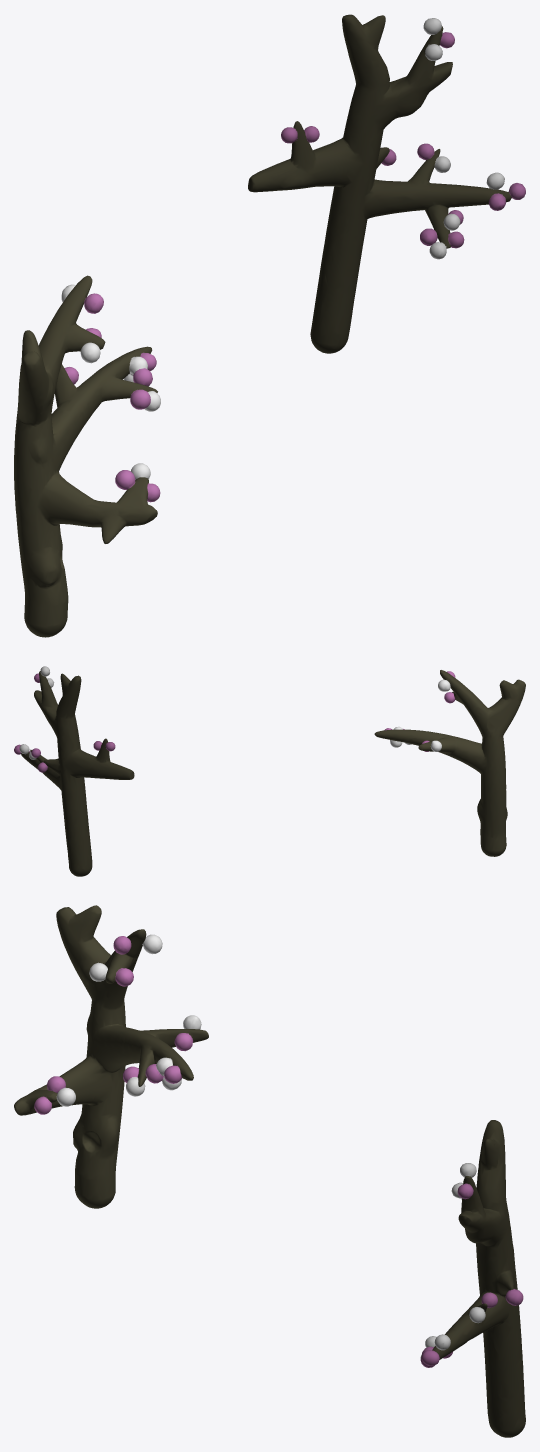
Rendered from dltds_trees.gltf.
3 renders of one model, top to bottom at view 1: azimuth 30°, elevation 25°; view 2: azimuth 150°, elevation 25°; view 3: azimuth 270°, elevation 25°, orthographic. The views are drawn at different scales.
Visible parts, largest first — view 1: Layer_1, Layer_1.001; view 2: Layer_1.001, Layer_1; view 3: Layer_1.001, Layer_1.
Part boxes in pixels (x1=…): Layer_1: x1=248, y1=14, x2=525, y2=353; Layer_1.001: x1=14, y1=275, x2=160, y2=637; Layer_1.001: x1=374, y1=670, x2=525, y2=856; Layer_1: x1=14, y1=666, x2=134, y2=876; Layer_1.001: x1=14, y1=905, x2=208, y2=1208; Layer_1: x1=420, y1=1120, x2=525, y2=1437.
Size of the model in its own units: 7.89 by 3.7 by 5.33.
